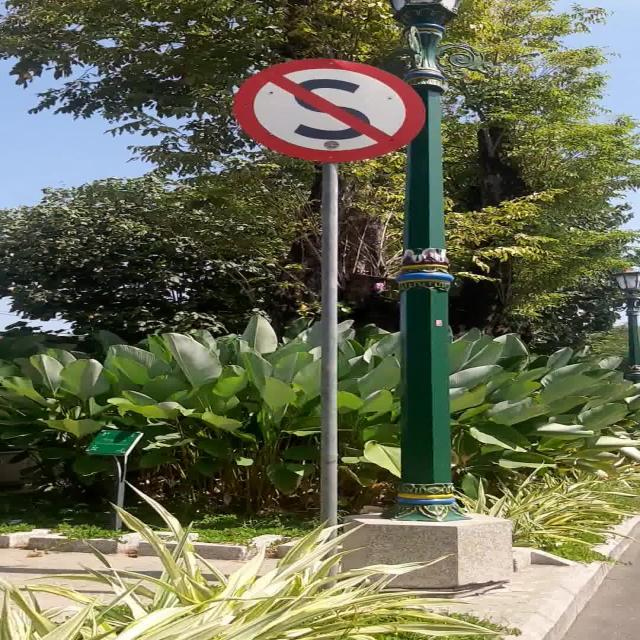Dilarang Berhenti: (234, 59, 426, 162)
